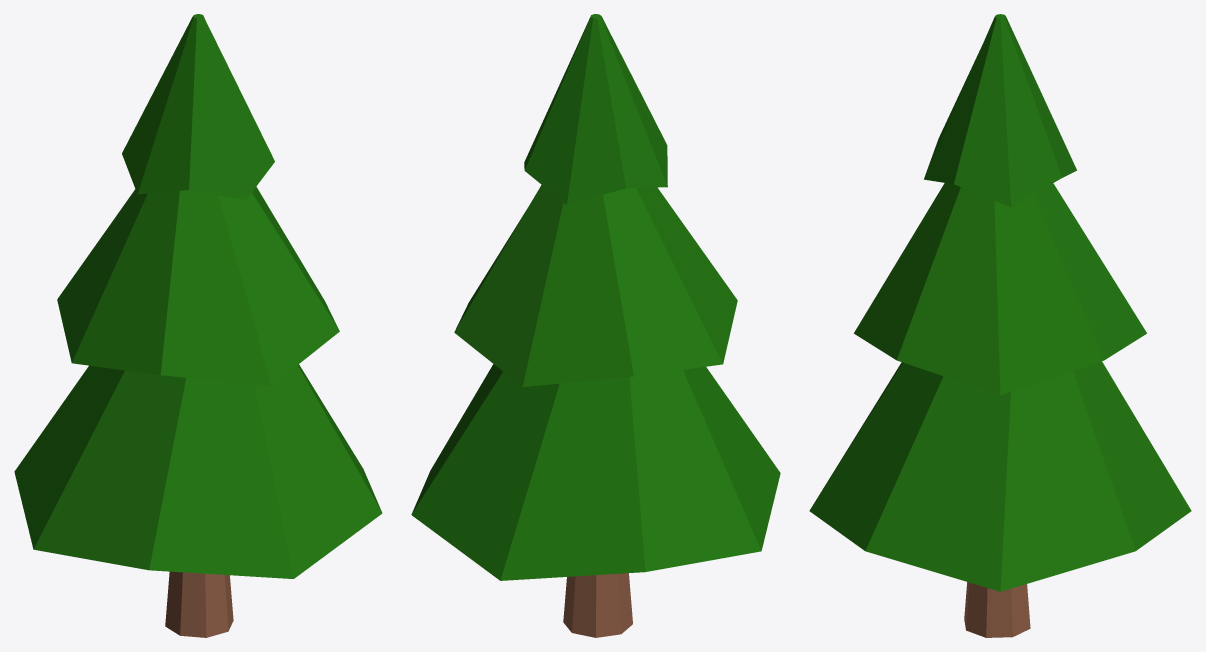
File: tree_02.fbx
The picture shows the model from 3 angles, left to right: view 1: azimuth 30°, elevation 25°; view 2: azimuth 150°, elevation 25°; view 3: azimuth 270°, elevation 25°; orthographic projection.
Visible parts, largest first — view 1: Cylinder.006; view 2: Cylinder.006; view 3: Cylinder.006.
Part boxes in pixels (x1,y1,x2,y2): Cylinder.006: [14, 14, 382, 637]; Cylinder.006: [411, 14, 780, 637]; Cylinder.006: [809, 14, 1191, 637].
Bounding box in the file's own units: 495 × 869 × 495.
